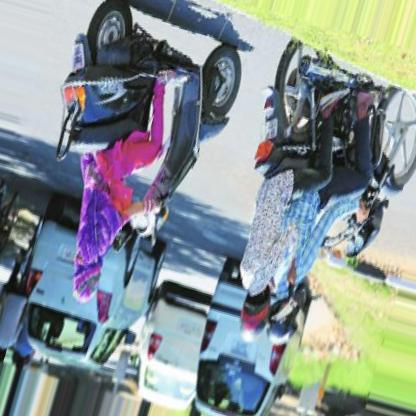with helmet: (236, 286, 270, 339), (270, 294, 303, 346)
